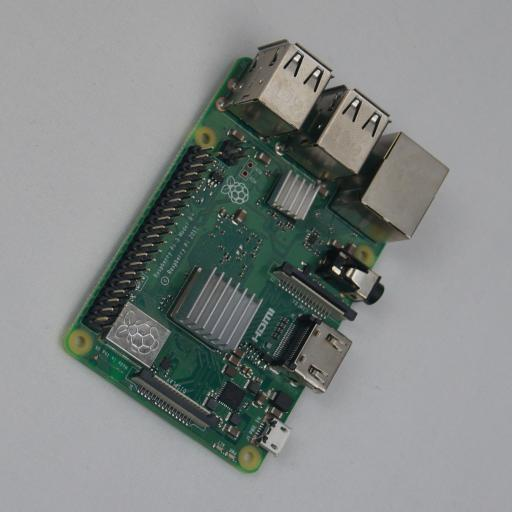Raspberry Pi 3 B-: (66, 40, 449, 472)
